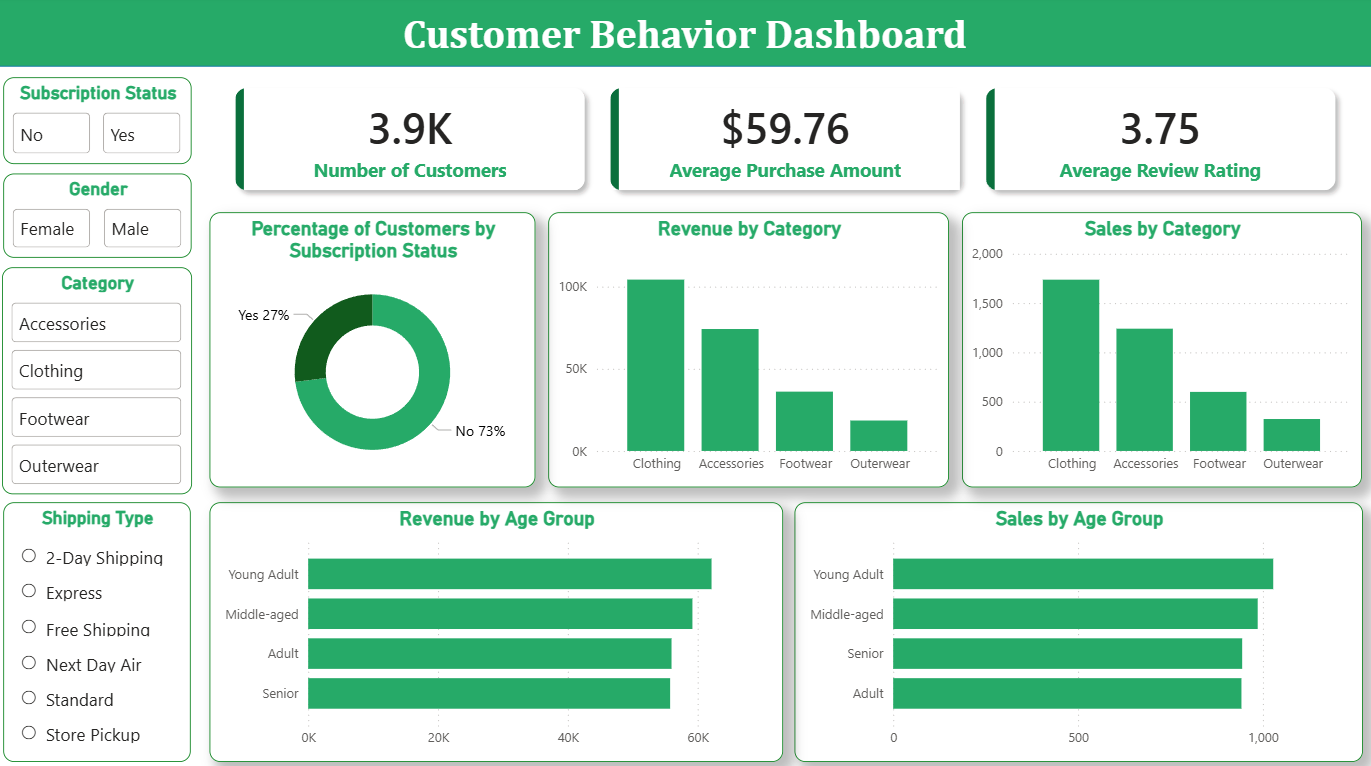

Layout of this report page (visuals, bound fields, positions):
{"tool":"powerbi","page":{"name":"Page 1","canvas":[1280,720],"ordinal":0},"visuals":[{"type":"cardVisual","fields":{"Data":["CountNonNull(consumer_analysis shopping_behavior.customer_id)","Avg(consumer_analysis shopping_behavior.purchase_amount)","Avg(consumer_analysis shopping_behavior.review_rating)"]},"box":[197.8,62.2,1072.3,143.1],"z":0},{"type":"clusteredColumnChart","title":"Sales by Category","fields":{"Category":["consumer_analysis shopping_behavior.category"],"Y":["CountNonNull(consumer_analysis shopping_behavior.category)"]},"box":[898.1,201.5,371.9,256.3],"z":1000},{"type":"clusteredColumnChart","title":"Revenue by Category","fields":{"Category":["consumer_analysis shopping_behavior.category"],"Y":["Sum(consumer_analysis shopping_behavior.purchase_amount)"]},"box":[512.5,201.5,373.2,256.3],"z":2000},{"type":"clusteredBarChart","title":"Sales by Age Group","fields":{"Category":["consumer_analysis shopping_behavior.age_group"],"Y":["CountNonNull(consumer_analysis shopping_behavior.age_group)"]},"box":[741.4,471.5,528.7,241.3],"z":3000},{"type":"clusteredBarChart","title":"Revenue by Age Group","fields":{"Category":["consumer_analysis shopping_behavior.age_group"],"Y":["Sum(consumer_analysis shopping_behavior.purchase_amount)"]},"box":[197.8,471.5,533.7,241.3],"z":4000},{"type":"donutChart","title":"Percentage of Customers by Subscription Status","fields":{"Y":["CountNonNull(consumer_analysis shopping_behavior.subscription_status)"],"Category":["consumer_analysis shopping_behavior.subscription_status"]},"box":[197.8,201.5,303.5,256.3],"z":5000},{"type":"advancedSlicerVisual","title":"Subscription Status","fields":{"Values":["consumer_analysis shopping_behavior.subscription_status"]},"box":[6.2,75.9,175.4,80.9],"z":6000},{"type":"advancedSlicerVisual","title":"Gender","fields":{"Values":["consumer_analysis shopping_behavior.gender"]},"box":[6.2,165.4,175.4,78.4],"z":7000},{"type":"advancedSlicerVisual","title":"Category","fields":{"Values":["consumer_analysis shopping_behavior.category"]},"box":[5,252.5,176.6,211.5],"z":8000},{"type":"listSlicer","fields":{"Values":["consumer_analysis shopping_behavior.shipping_type"]},"box":[6.2,471.5,174.2,241.3],"z":9000},{"type":"shape","box":[0,0,1280,65.9],"z":10000},{"type":"textbox","box":[0,8.7,1280,67.2],"z":11000}]}

Visuals, with their boxes in screenshot pixels (x1, y1, x2, y2), scaled from the page's 1280x720 canvas onto the 1371x766 screenshot:
cardVisual - CountNonNull(consumer_analysis shopping_behavior.customer_id) x Avg(consumer_analysis shopping_behavior.purchase_amount): region(212, 66, 1360, 218)
"Sales by Category" clusteredColumnChart: region(962, 214, 1360, 487)
"Revenue by Category" clusteredColumnChart: region(549, 214, 949, 487)
"Sales by Age Group" clusteredBarChart: region(794, 502, 1360, 758)
"Revenue by Age Group" clusteredBarChart: region(212, 502, 784, 758)
"Percentage of Customers by Subscription Status" donutChart: region(212, 214, 537, 487)
"Subscription Status" advancedSlicerVisual: region(7, 81, 195, 167)
"Gender" advancedSlicerVisual: region(7, 176, 195, 259)
"Category" advancedSlicerVisual: region(5, 269, 195, 494)
listSlicer - consumer_analysis shopping_behavior.shipping_type: region(7, 502, 193, 758)
shape: region(0, 0, 1370, 70)
textbox: region(0, 9, 1370, 81)
